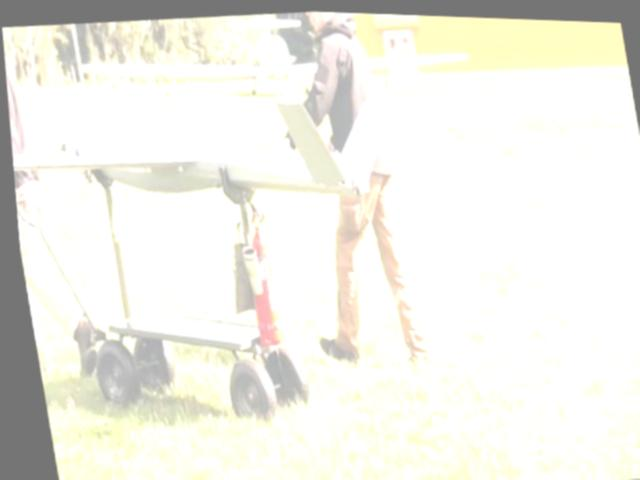iha: (66, 2, 474, 101)
